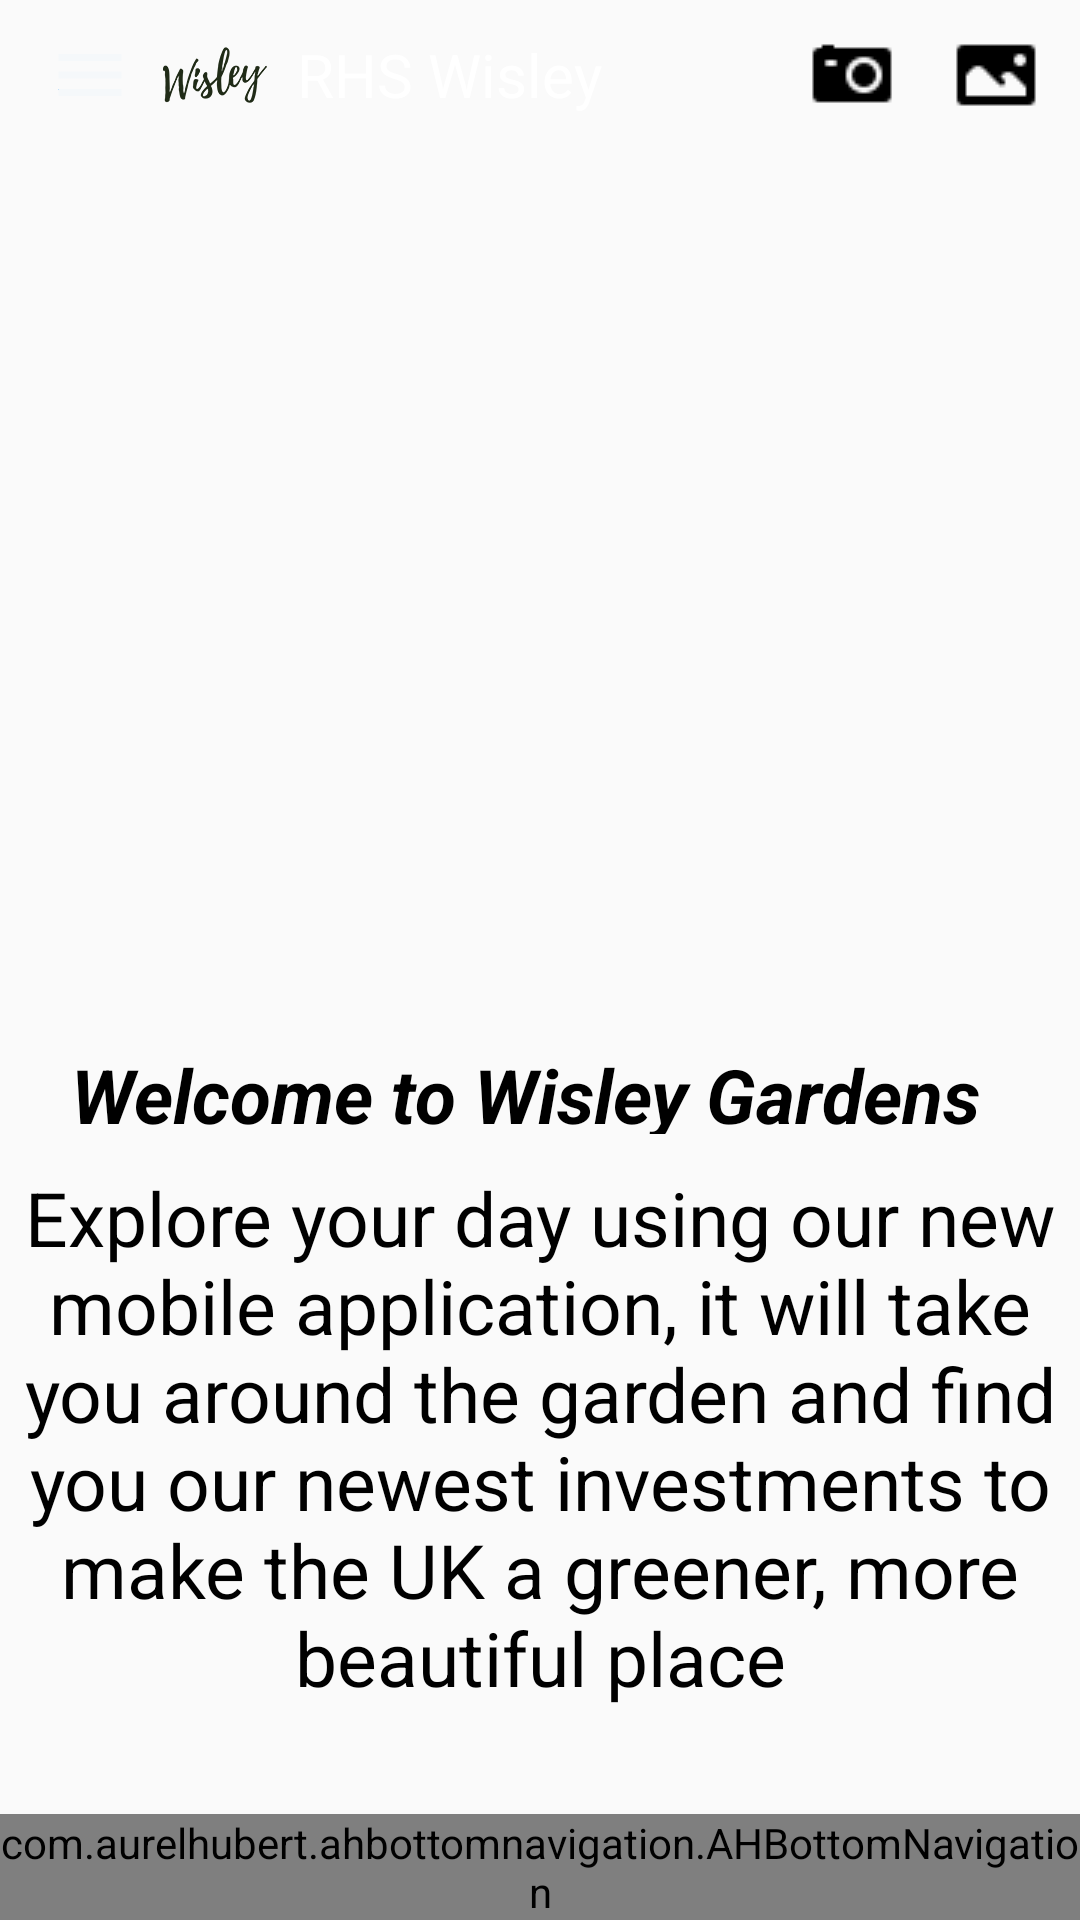

Screen size 1080 x 1920. Icon name, then its box in pixels as BBox(x1, y1, x2, y2):
capturei: BBox(812, 44, 892, 103)
fulli: BBox(956, 44, 1036, 106)
